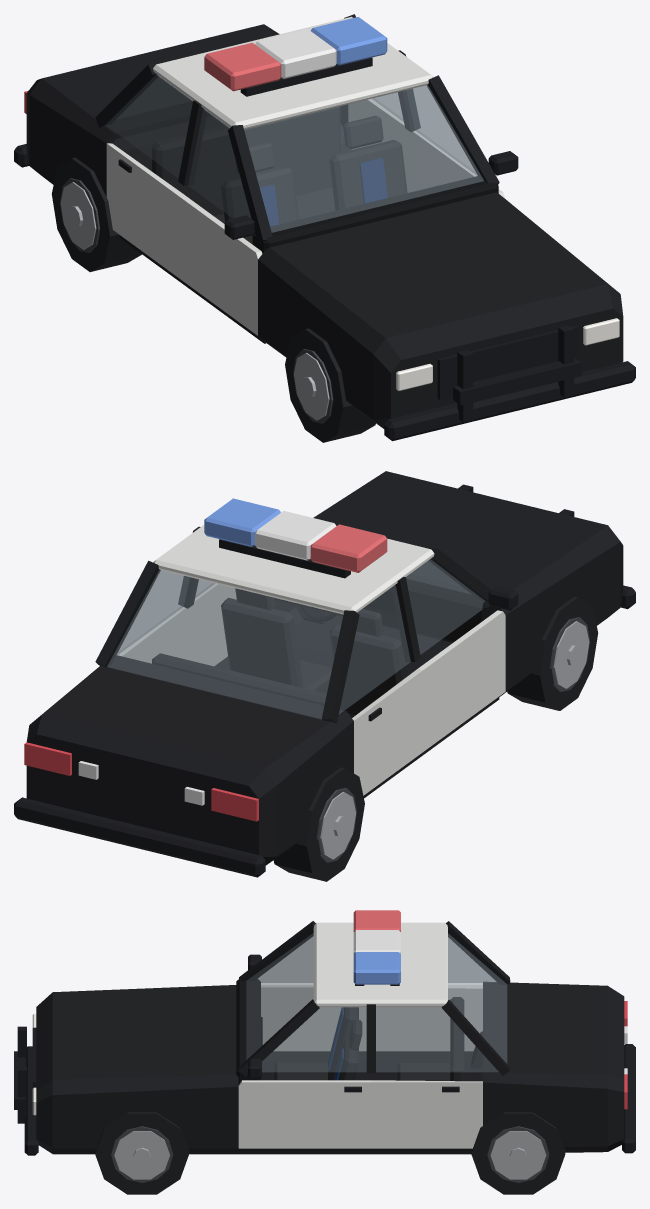
Rendered from police.glb.
3 views of the same model, one above another, from view 1: azimuth 30°, elevation 25°; view 2: azimuth 150°, elevation 25°; view 3: azimuth 270°, elevation 25° (orthographic). The views are drawn at different scales.
Parts seen in each view (by area): view 1: Body__Shell, Details, Cabin__Glass, Cabin__Bench__26282B, Light_Bar, Wheel_FR, Wheel_RR, Cabin__Dash__141517, Driver_Seat__Seat__26282B, Cabin__Seat__26282B, Door_Driver__Glass, Door_Driver__Shell (+2 smaller); view 2: Body__Shell, Cabin__Glass, Details, Light_Bar, Driver_Seat__Seat__26282B, Wheel_RR, Wheel_FR, Cabin__Seat__26282B, Cabin__Dash__141517, Door_Driver__Shell, Lamps, Cabin__Bench__26282B (+1 smaller); view 3: Body__Shell, Details, Cabin__Glass, Door_Driver__Shell, Wheel_RL, Wheel_FL, Door_Driver__Glass, Light_Bar, Cabin__Floor__1C1D20, Cabin__Dash__141517, Cabin__Bench__26282B, Cabin__Seat__26282B (+2 smaller).
Part boxes in pixels (box(x1,y1,x2,y2)): Body__Shell: box(26, 24, 623, 428); Details: box(14, 14, 635, 441); Cabin__Glass: box(105, 75, 483, 232); Cabin__Bench__26282B: box(152, 106, 340, 223); Light_Bar: box(204, 17, 387, 96); Wheel_FR: box(285, 328, 375, 442); Wheel_RR: box(51, 157, 141, 271); Cabin__Dash__141517: box(252, 176, 498, 253); Driver_Seat__Seat__26282B: box(329, 116, 407, 210); Cabin__Seat__26282B: box(221, 142, 298, 244); Door_Driver__Glass: box(407, 86, 477, 175); Door_Driver__Shell: box(417, 134, 502, 193); Body__Shell: box(26, 471, 623, 865); Cabin__Glass: box(107, 559, 484, 719); Details: box(14, 484, 635, 877); Light_Bar: box(204, 498, 387, 578); Driver_Seat__Seat__26282B: box(221, 588, 331, 691); Wheel_RR: box(273, 767, 364, 881); Wheel_FR: box(507, 596, 598, 710); Cabin__Seat__26282B: box(329, 609, 406, 717); Cabin__Dash__141517: box(274, 574, 498, 642); Door_Driver__Shell: box(176, 583, 236, 666); Lamps: box(24, 742, 258, 821); Cabin__Bench__26282B: box(152, 653, 340, 709); Body__Shell: box(36, 982, 624, 1154); Details: box(14, 921, 635, 1155); Cabin__Glass: box(246, 933, 507, 1072); Door_Driver__Shell: box(242, 1080, 371, 1148); Wheel_RL: box(471, 1112, 565, 1194); Wheel_FL: box(95, 1112, 189, 1194); Door_Driver__Glass: box(262, 1007, 366, 1072); Light_Bar: box(353, 910, 400, 985); Cabin__Floor__1C1D20: box(238, 1060, 482, 1153); Cabin__Dash__141517: box(236, 978, 260, 1084); Cabin__Bench__26282B: box(397, 997, 464, 1081); Cabin__Seat__26282B: box(274, 1007, 358, 1080).
Bounding box in the file's own units: 2.28 × 1.92 × 5.29.
Materials: 10 (3 with a texture image).
